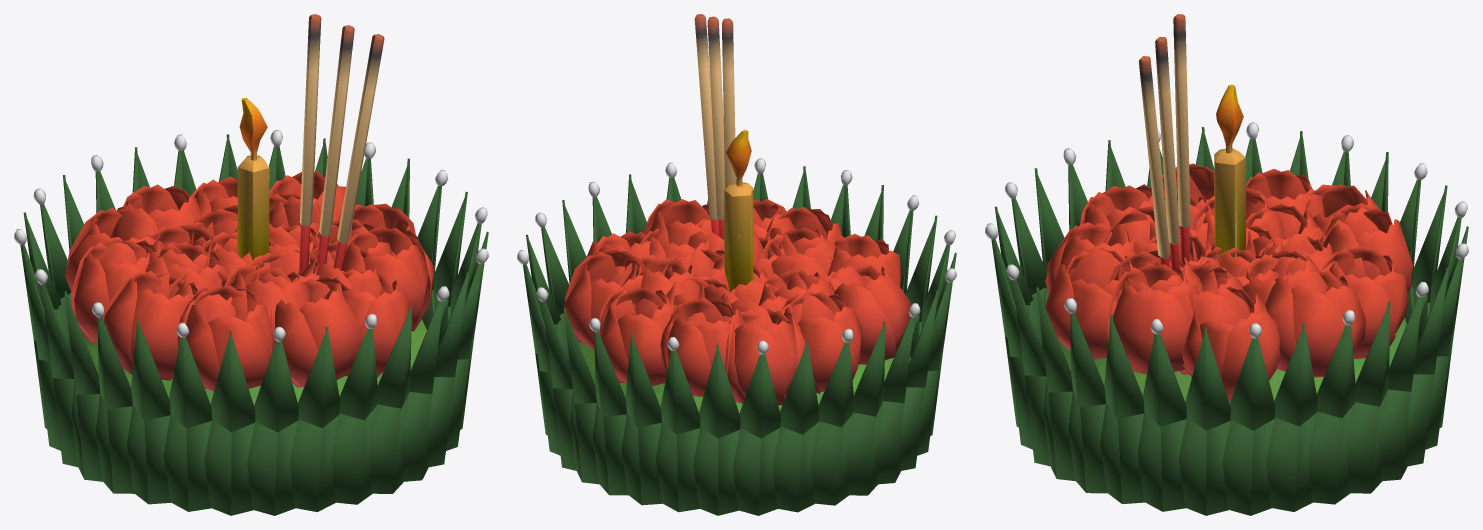
3 views of the same model, side by side, from view 1: azimuth 30°, elevation 25°; view 2: azimuth 150°, elevation 25°; view 3: azimuth 270°, elevation 25° (orthographic). The views are drawn at different scales.
Visible parts, largest first — view 1: Flower_017_Base_Material_0_002, Object_0_001, Flower_031_Base_Material_0_014, Flower_031_Base_Material_0_012, Flower_031_Base_Material_0_013, Flower_031_Base_Material_0_015, Flower_031_Base_Material_0_008, Flower_031_Base_Material_0_005, Flower_031_Base_Material_0_009, Flower_031_Base_Material_0_004, Flower_031_Base_Material_0_011, Flower_031_Base_Material_0_006 (+16 smaller); view 2: Flower_017_Base_Material_0_002, Object_0_001, Flower_031_Base_Material_0_020, Flower_031_Base_Material_0_025, Flower_031_Base_Material_0_001, Flower_031_Base_Material_0_021, Flower_031_Base_Material_0_003, Flower_031_Base_Material_0_022, Flower_031_Base_Material_0_002, Flower_031_Base_Material_0_018, Flower_031_Base_Material_0_007, Flower_031_Base_Material_0_019 (+17 smaller); view 3: Flower_017_Base_Material_0_002, Object_0_001, Flower_031_Base_Material_0_023, Flower_031_Base_Material_0_024, Flower_031_Base_Material_0_045, Flower_031_Base_Material_0_047, Flower_031_Base_Material_0_044, Flower_031_Base_Material_0_046, Flower_031_Base_Material_0_016, Flower_031_Base_Material_0_048, Flower_031_Base_Material_0_017, Flower_031_Base_Material_0_049 (+15 smaller).
Boxes of the visible parts, box(x1,y1,x2,y2) form: Flower_017_Base_Material_0_002: box(65, 171, 434, 391); Object_0_001: box(237, 14, 384, 275); Flower_031_Base_Material_0_014: box(204, 331, 255, 515); Flower_031_Base_Material_0_012: box(247, 341, 298, 515); Flower_031_Base_Material_0_013: box(290, 326, 340, 512); Flower_031_Base_Material_0_015: box(163, 337, 211, 511); Flower_031_Base_Material_0_008: box(331, 328, 377, 504); Flower_031_Base_Material_0_005: box(127, 318, 170, 504); Flower_031_Base_Material_0_009: box(369, 305, 411, 493); Flower_031_Base_Material_0_004: box(96, 317, 134, 493); Flower_031_Base_Material_0_011: box(402, 301, 443, 481); Flower_031_Base_Material_0_006: box(64, 291, 102, 481); Flower_017_Base_Material_0_002: box(564, 199, 911, 405); Object_0_001: box(694, 14, 753, 292); Flower_031_Base_Material_0_020: box(693, 344, 740, 515); Flower_031_Base_Material_0_025: box(733, 354, 780, 515); Flower_031_Base_Material_0_001: box(773, 340, 819, 512); Flower_031_Base_Material_0_021: box(655, 350, 700, 512); Flower_031_Base_Material_0_003: box(811, 342, 854, 505); Flower_031_Base_Material_0_022: box(621, 333, 661, 505); Flower_031_Base_Material_0_002: box(846, 321, 885, 495); Flower_031_Base_Material_0_018: box(593, 332, 628, 495); Flower_031_Base_Material_0_007: box(877, 317, 914, 484); Flower_031_Base_Material_0_019: box(563, 307, 598, 484); Flower_017_Base_Material_0_002: box(1045, 163, 1412, 401); Object_0_001: box(1138, 14, 1245, 270); Flower_031_Base_Material_0_023: box(1179, 327, 1230, 515); Flower_031_Base_Material_0_024: box(1222, 338, 1275, 515); Flower_031_Base_Material_0_045: box(1266, 323, 1317, 511); Flower_031_Base_Material_0_047: box(1137, 334, 1186, 511); Flower_031_Base_Material_0_044: box(1308, 325, 1355, 504); Flower_031_Base_Material_0_046: box(1100, 315, 1144, 504); Flower_031_Base_Material_0_016: box(1347, 301, 1390, 493); Flower_031_Base_Material_0_048: box(1068, 313, 1107, 493); Flower_031_Base_Material_0_017: box(1381, 297, 1422, 480); Flower_031_Base_Material_0_049: box(1036, 286, 1075, 481).
Bounding box in the file's own units: 0.1989 × 0.1938 × 0.1981.
47 materials, 32 textured.
